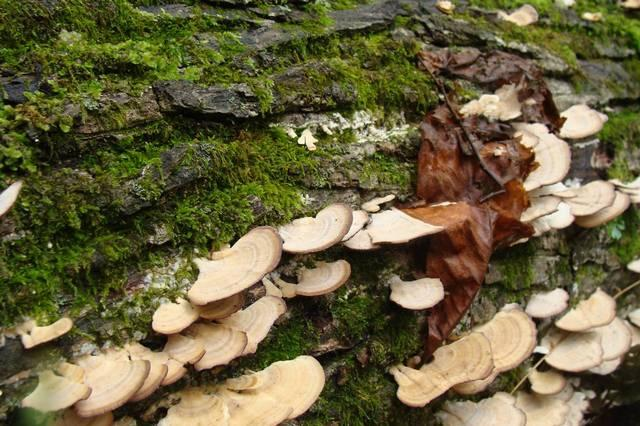Non-edible Mushroom: (361, 64, 640, 426), (23, 181, 353, 426), (185, 224, 282, 306)
